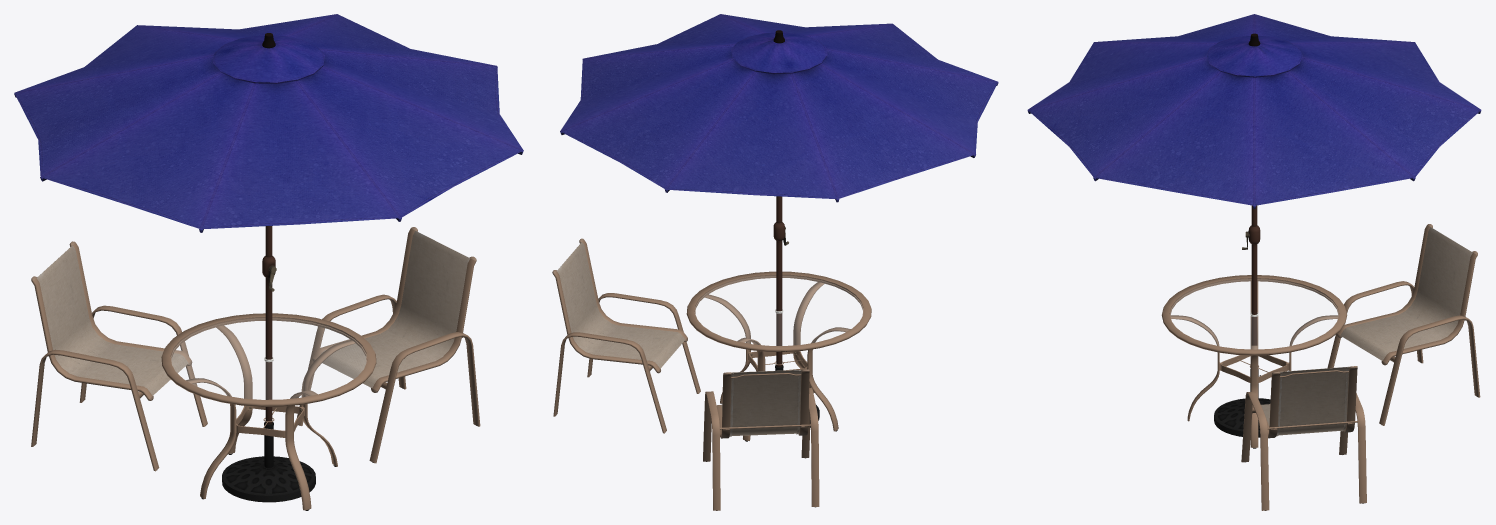
Rendered from patio_set.glb.
The picture shows the model from 3 angles, left to right: view 1: azimuth 30°, elevation 25°; view 2: azimuth 150°, elevation 25°; view 3: azimuth 270°, elevation 25°; orthographic projection. The views are drawn at different scales.
Visible parts, largest first — view 1: Patio_Umbrella, Patio_Chair001, Glass, Patio_Chair, Table_Body; view 2: Patio_Umbrella, Glass, Patio_Chair001, Patio_Chair, Table_Body; view 3: Patio_Umbrella, Patio_Chair, Glass, Patio_Chair001, Table_Body.
Boxes of the visible parts, x1,y1,x2,y2 form: Patio_Umbrella: (14, 14, 523, 502); Patio_Chair001: (296, 227, 480, 463); Glass: (171, 319, 366, 399); Patio_Chair: (31, 241, 207, 471); Table_Body: (161, 313, 376, 510); Patio_Umbrella: (560, 14, 998, 427); Glass: (695, 276, 862, 345); Patio_Chair001: (552, 238, 700, 433); Patio_Chair: (703, 369, 819, 510); Table_Body: (686, 271, 871, 441); Patio_Umbrella: (1027, 14, 1481, 437); Patio_Chair: (1327, 224, 1480, 425); Glass: (1170, 280, 1338, 348); Patio_Chair001: (1241, 366, 1366, 510); Table_Body: (1161, 275, 1347, 448).
Bounding box in the file's own units: 274 × 256 × 274.
Materials: 4 (3 with a texture image).
